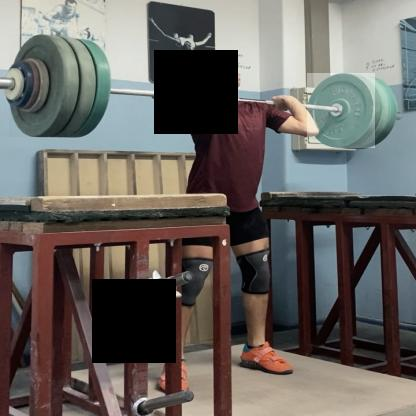barbell: (10, 35, 68, 138), (308, 74, 376, 149)
